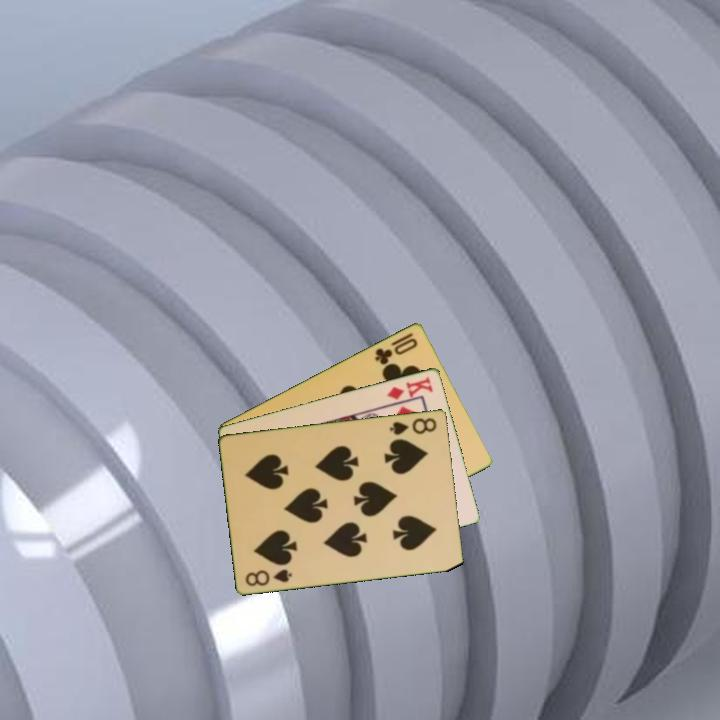10c: (371, 329, 421, 367)
8s: (386, 414, 440, 438), (242, 565, 295, 589)
Kd: (383, 373, 436, 402)
